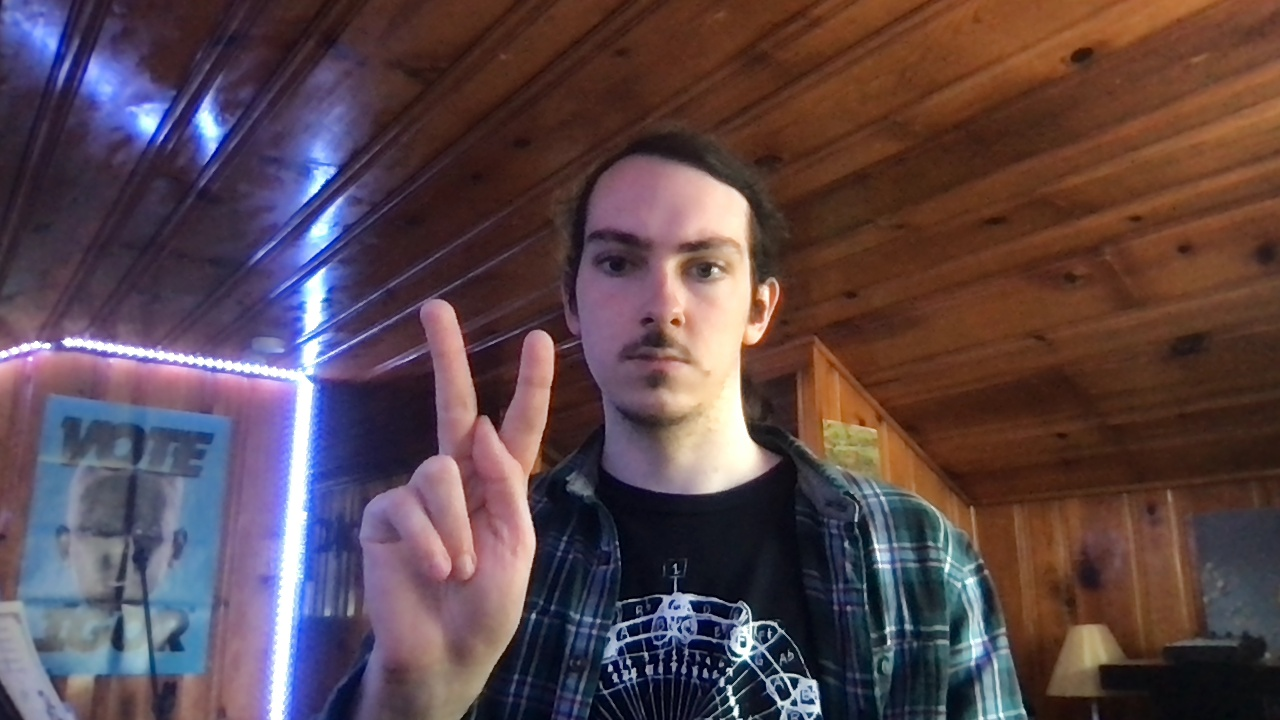k: (356, 296, 558, 669)
